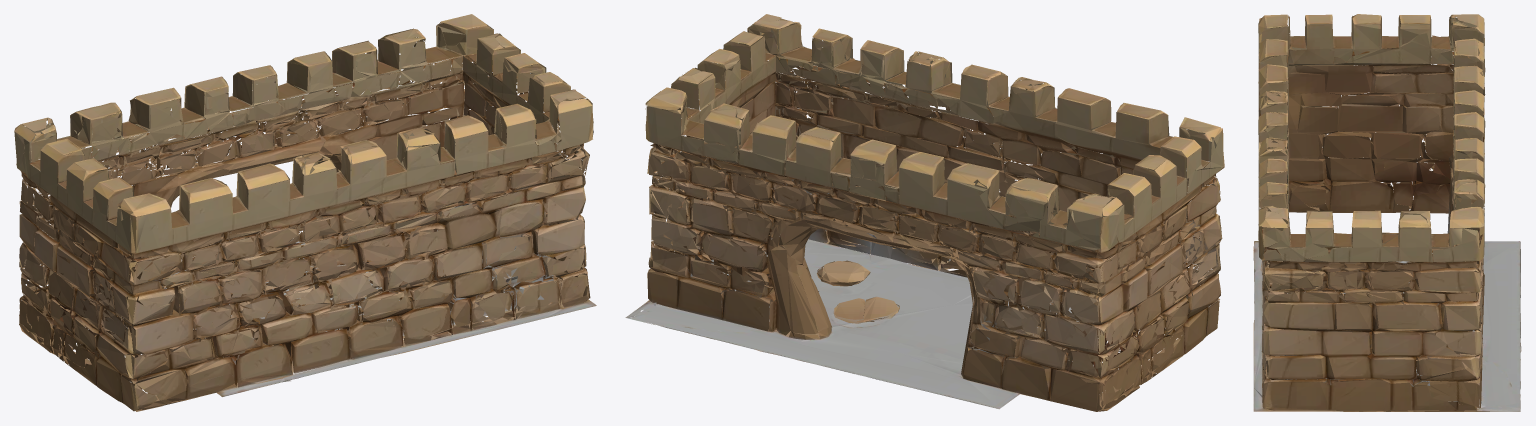
The model's file is city-wall.glb.
3 renders of one model, left to right at view 1: azimuth 30°, elevation 25°; view 2: azimuth 150°, elevation 25°; view 3: azimuth 270°, elevation 25°, orthographic. The views are drawn at different scales.
Parts seen in each view (by area): view 1: material; view 2: material; view 3: material.
Boxes of the visible parts, x1,y1,x2,y2 form: material: [14, 14, 596, 411]; material: [625, 14, 1224, 411]; material: [1253, 14, 1521, 411].
Size of the model in its own units: 2.15 by 0.9199 by 1.15.
Materials: 1 (1 with a texture image).
